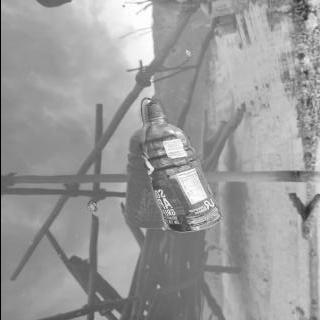bottle: (136, 98, 226, 235)
